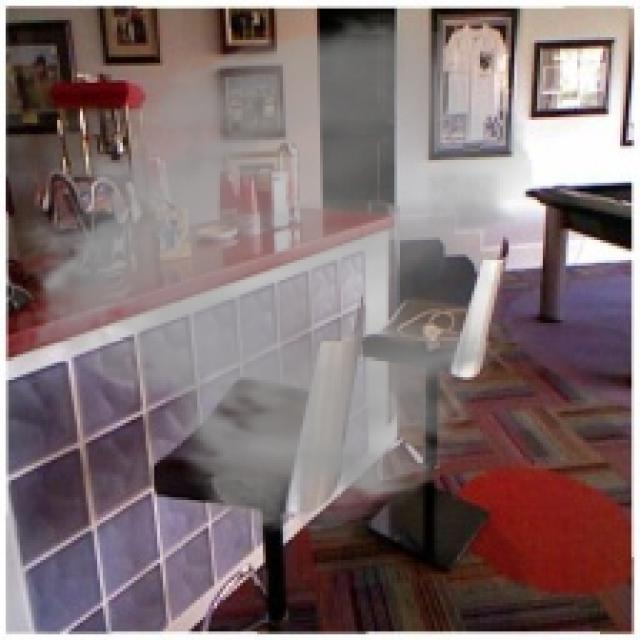smoke: (3, 9, 537, 537)
